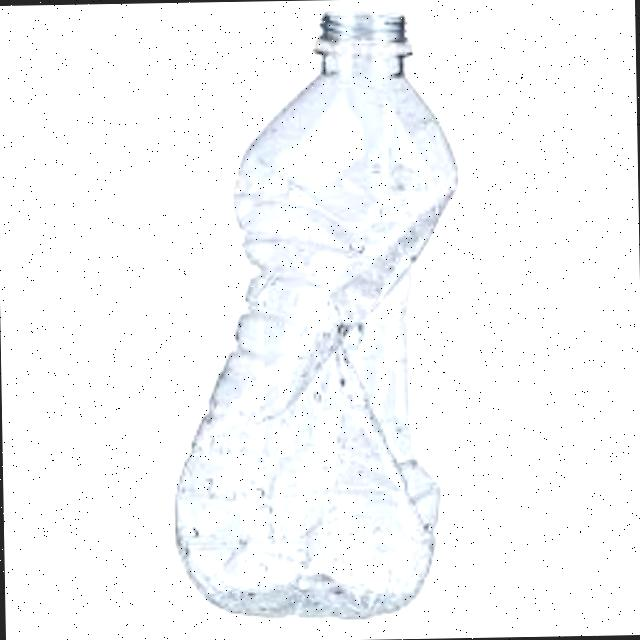Plastic: (130, 0, 517, 625), (604, 0, 640, 616), (0, 5, 28, 627)
